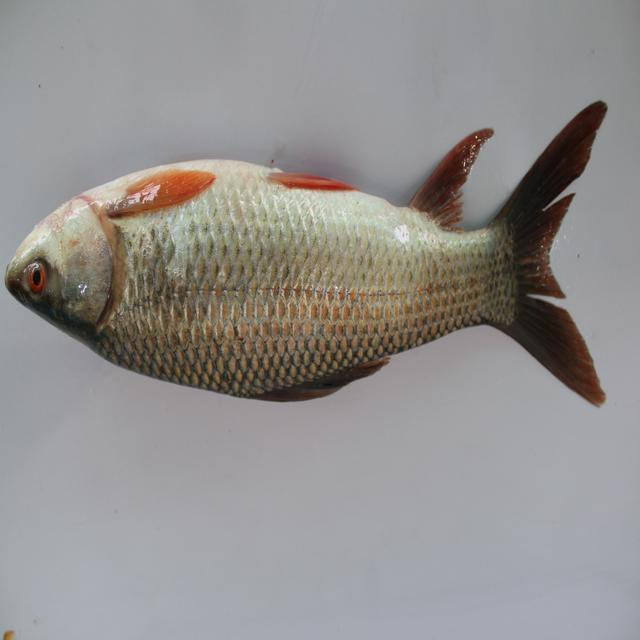Rohu: (1, 115, 618, 402)
